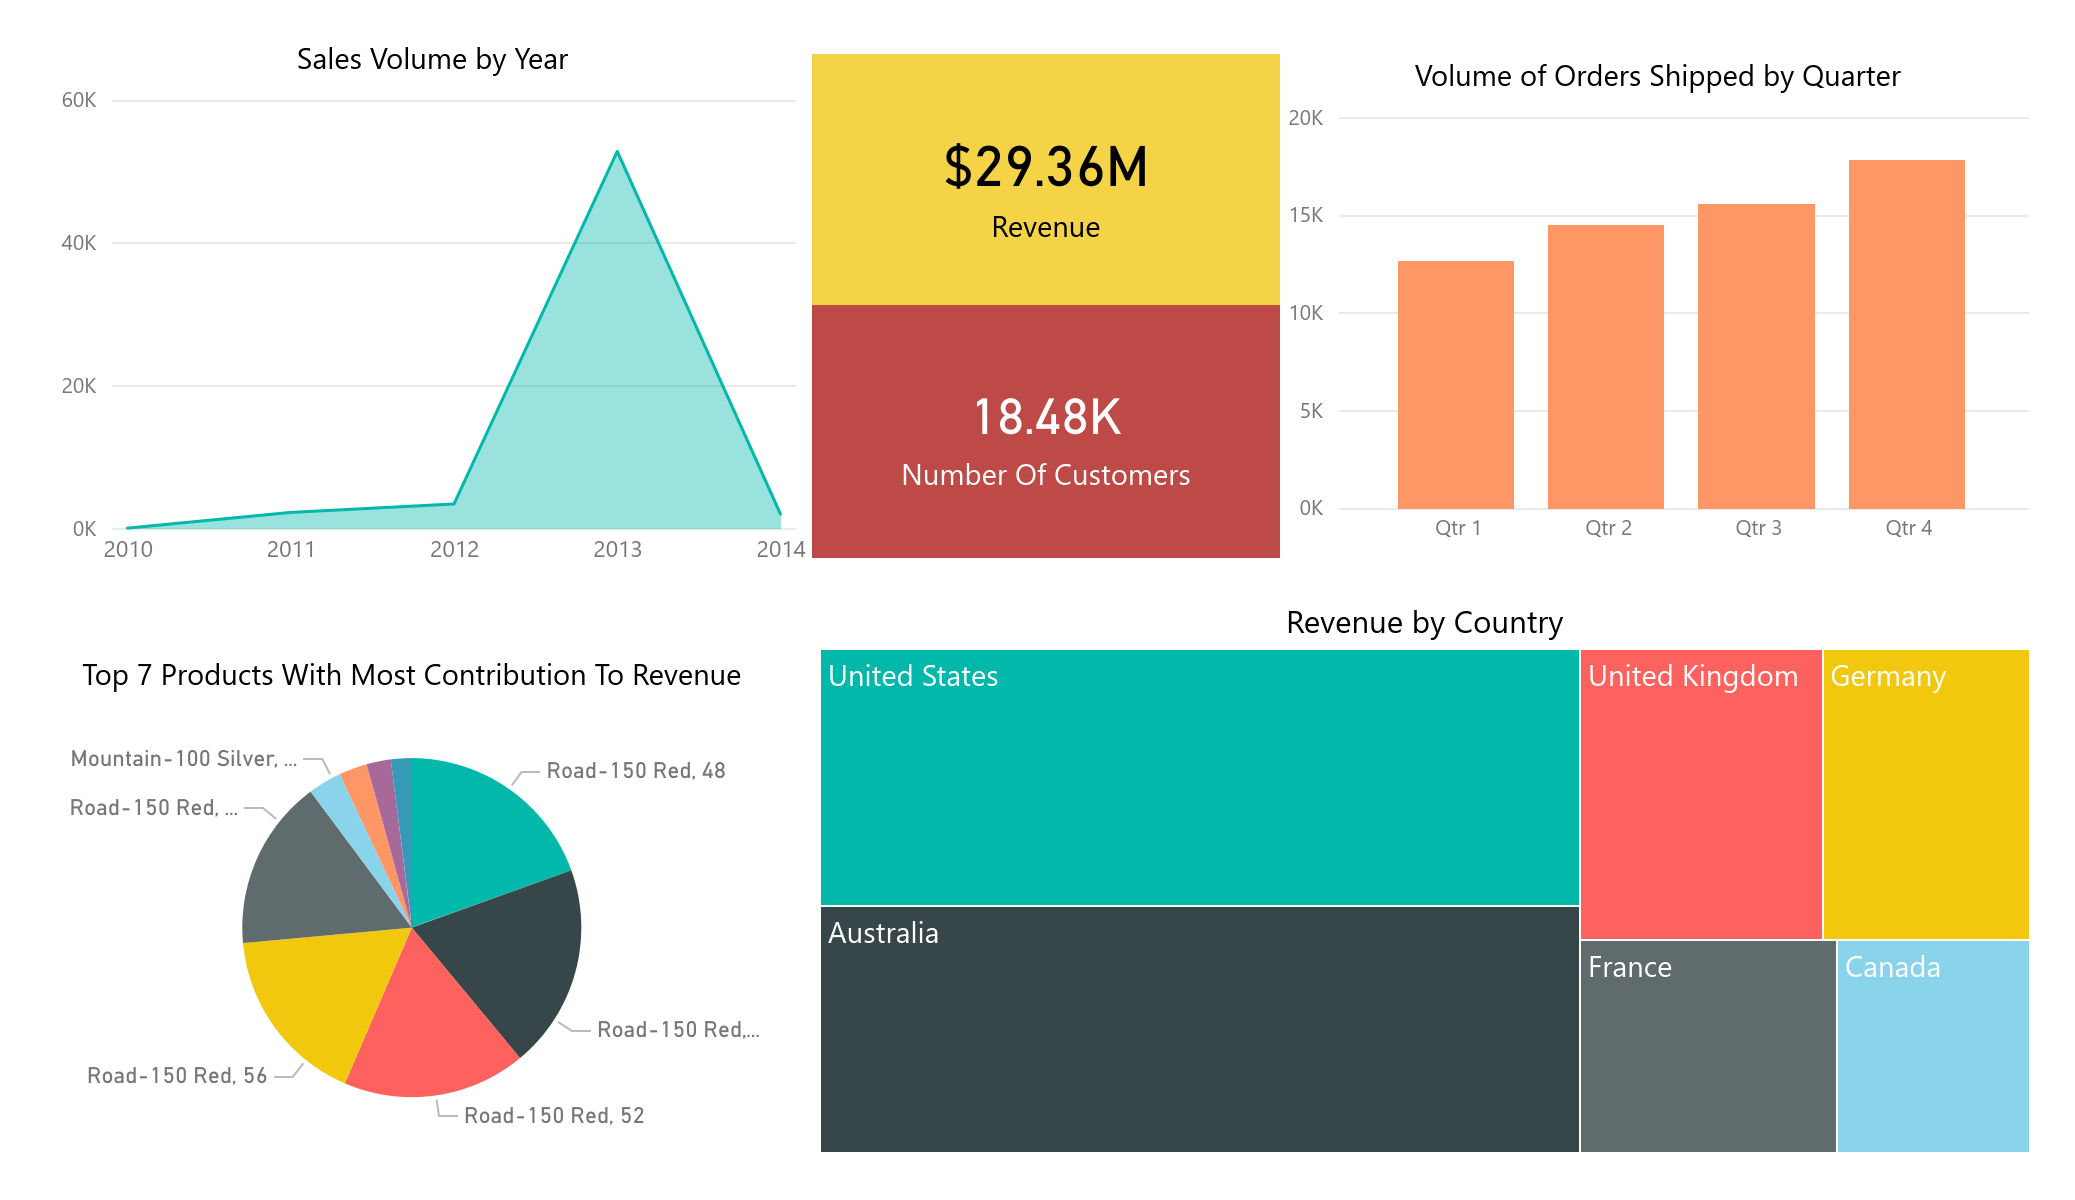

The dashboard page shown, as its layout file describes it:
{"tool":"powerbi","page":{"name":"Page 1","canvas":[1280,720],"ordinal":0},"visuals":[{"type":"areaChart","title":"Sales Volume by Year","fields":{"Category":["vDim_Date.Year"],"Y":["CountNonNull(vFact_Sales.SalesOrderID)"]},"box":[9.5,0,486.6,348.4],"z":0},{"type":"pieChart","title":"Top 7 Products With Most Contribution To Revenue","fields":{"Category":["vDim_Product.ProductName"],"Y":["Sum(vFact_Sales.ExtendedAmount)"]},"box":[9.5,393.8,460.1,325.7],"z":1000},{"type":"columnChart","title":"Volume of Orders Shipped by Quarter","fields":{"Category":["vFact_Sales.ShipDate.Variation.Date Hierarchy.Quarter"],"Y":["CountNonNull(vFact_Sales.CustomerID)"]},"box":[795.3,11.4,484.7,321.9],"z":2000},{"type":"treemap","title":"Revenue by Country","fields":{"Group":["vDim_Territory.TerritoryCountry"],"Values":["Sum(vFact_Sales.ExtendedAmount)"]},"box":[496.1,359.8,783.9,359.8],"z":3000},{"type":"card","title":"fbfdasfakhf","fields":{"Values":["Sum(vFact_Sales.ExtendedAmount)"]},"box":[496.1,11.4,299.2,160.9],"z":4000},{"type":"card","fields":{"Values":["CountNonNull(vDim_Customer.CustomerID)"]},"box":[496.1,172.3,299.2,160.9],"z":5000}]}

Visuals, with their boxes in screenshot pixels (x1, y1, x2, y2):
"Sales Volume by Year" areaChart: [x1=52, y1=38, x2=813, y2=582]
"Top 7 Products With Most Contribution To Revenue" pieChart: [x1=52, y1=653, x2=771, y2=1162]
"Volume of Orders Shipped by Quarter" columnChart: [x1=1280, y1=55, x2=2038, y2=558]
"Revenue by Country" treemap: [x1=813, y1=600, x2=2038, y2=1162]
"fbfdasfakhf" card: [x1=813, y1=55, x2=1280, y2=307]
card - CountNonNull(vDim_Customer.CustomerID): [x1=813, y1=307, x2=1280, y2=558]
